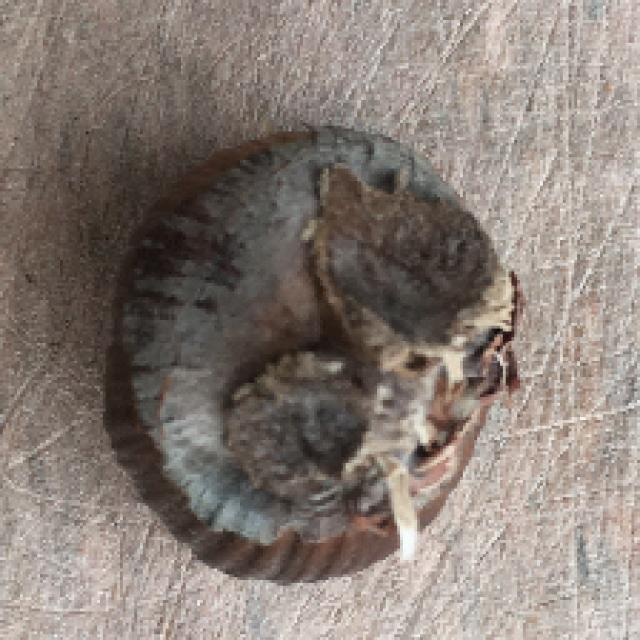DamagedHazelnut: (96, 128, 504, 587)
